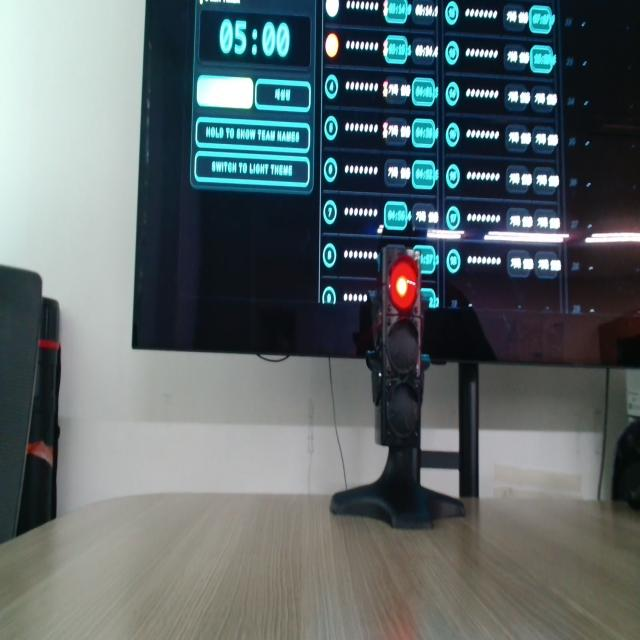red_light: (390, 257, 418, 312)
